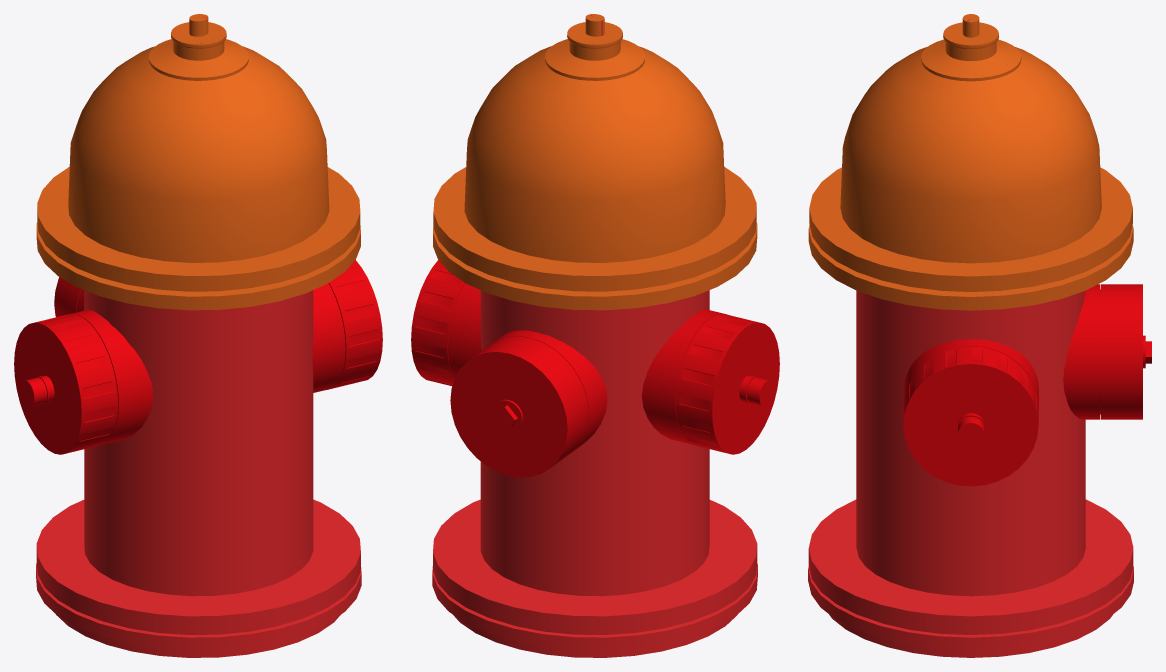
The model's file is Fire_Hydrant.fbx.
3 views of the same model, side by side, from view 1: azimuth 30°, elevation 25°; view 2: azimuth 150°, elevation 25°; view 3: azimuth 270°, elevation 25° (orthographic).
Visible parts, largest first — view 1: Cylinder, Cylinder.006, Cylinder.003, Cylinder.005, Cylinder.004, Cylinder.001; view 2: Cylinder, Cylinder.001, Cylinder.006, Cylinder.003, Cylinder.005, Cylinder.002, Cylinder.004; view 3: Cylinder, Cylinder.003, Cylinder.001, Cylinder.002, Cylinder.004.
Boxes of the visible parts, box(x1,y1,x2,y2) form: Cylinder: box(36, 14, 361, 657); Cylinder.006: box(14, 313, 118, 454); Cylinder.003: box(325, 260, 382, 390); Cylinder.005: box(72, 309, 153, 445); Cylinder.004: box(312, 283, 345, 392); Cylinder.001: box(54, 277, 81, 317); Cylinder: box(432, 14, 757, 657); Cylinder.001: box(450, 336, 588, 477); Cylinder.006: box(675, 313, 779, 454); Cylinder.003: box(411, 260, 464, 385); Cylinder.005: box(642, 309, 726, 443); Cylinder.002: box(490, 330, 607, 451); Cylinder.004: box(448, 283, 481, 379); Cylinder: box(808, 14, 1133, 657); Cylinder.003: box(903, 346, 1038, 486); Cylinder.001: box(1100, 284, 1151, 419); Cylinder.002: box(1063, 284, 1100, 419); Cylinder.004: box(904, 339, 1038, 409).
Size of the model in its own units: 344 by 554 by 300.
